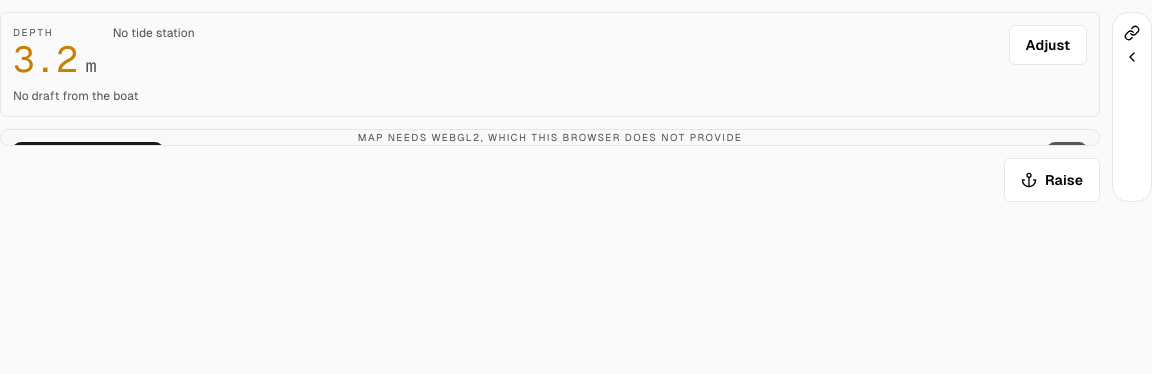
Test: AnchorWatchDrawer Adjust mode — radius toolbar and disabled reasons › steps the radius by 1 m on a single tap of +
The width and height of the screenshot is (1152, 374).
Click the button "Adjust" at (1048, 45), box [1009,25,1087,65]
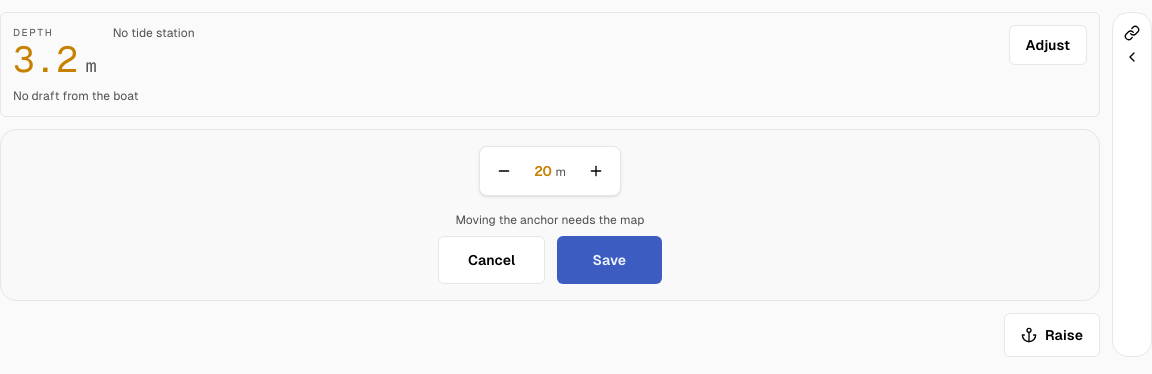
Press the mouse on the button named "Increase radius" at (596, 171), box [576,151,616,191]
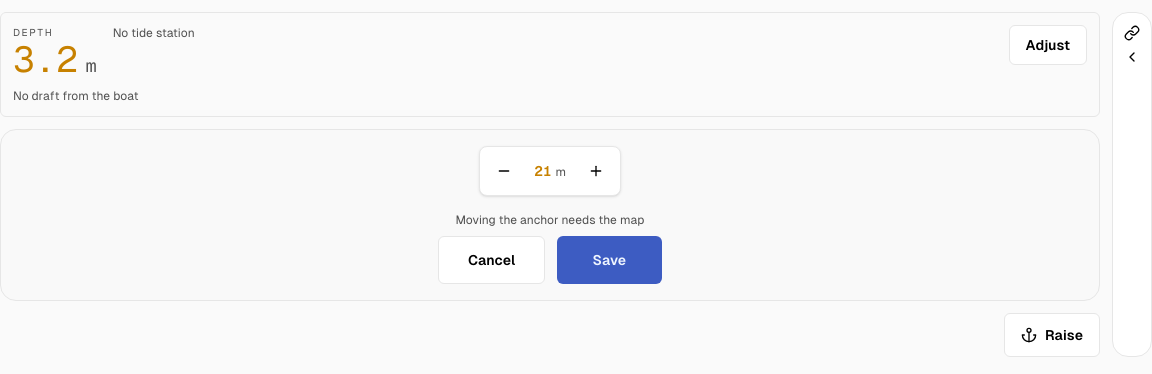
Expected: the text with test id "anchor-adjust-radius-value" reads "21", [534,163,552,179]
